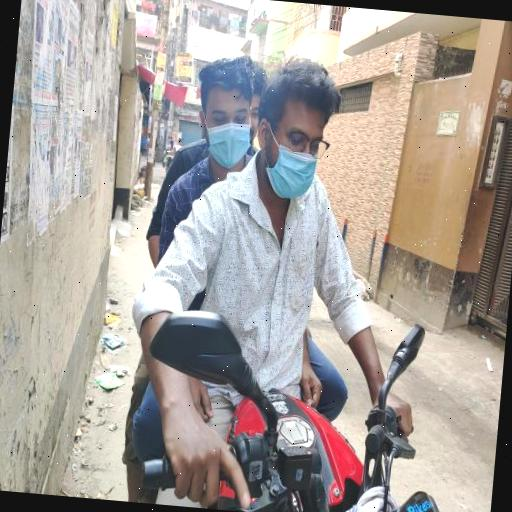no helmet: (241, 56, 354, 244)
triple riding: (115, 30, 467, 512)
